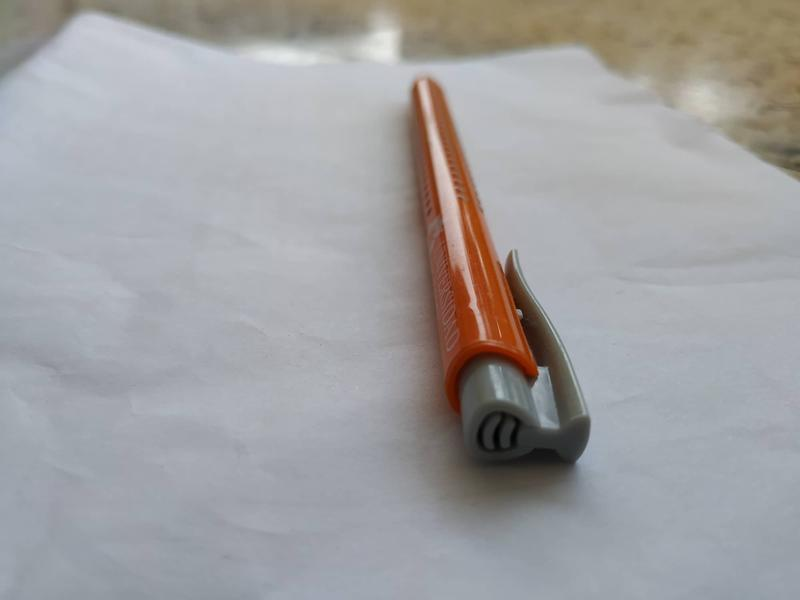qillqana: (404, 67, 605, 479)
